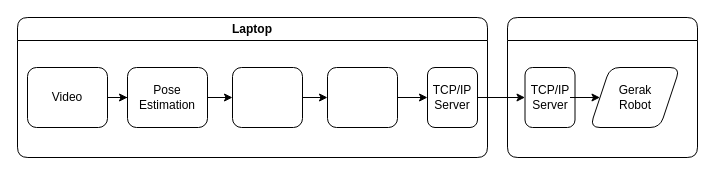
This 715x175 diagram has some shape labels left out. The shapes that lost their labels are listed below. From the top down, each one's box as (x1, y1, x2, y2) in pixels, then its label:
(232, 66, 302, 128): Inverse Kinematics
(326, 66, 398, 128): Sudut Servo
(506, 16, 698, 158): Robotis-OP3
